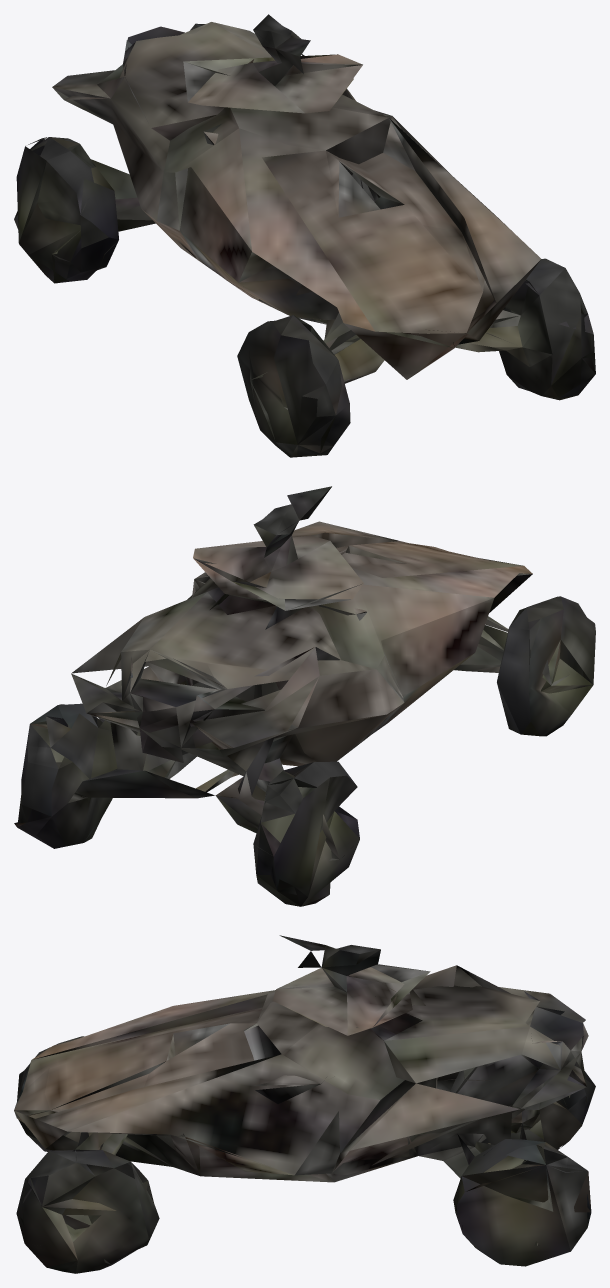
The model's file is buggy_1310892599_lod0m.glb.
The picture shows the model from 3 angles, top to bottom: view 1: azimuth 30°, elevation 25°; view 2: azimuth 150°, elevation 25°; view 3: azimuth 270°, elevation 25°; orthographic projection. The views are drawn at different scales.
Bounding box in the file's own units: 2.43 × 2.29 × 4.44.
1 material, 1 textured.
